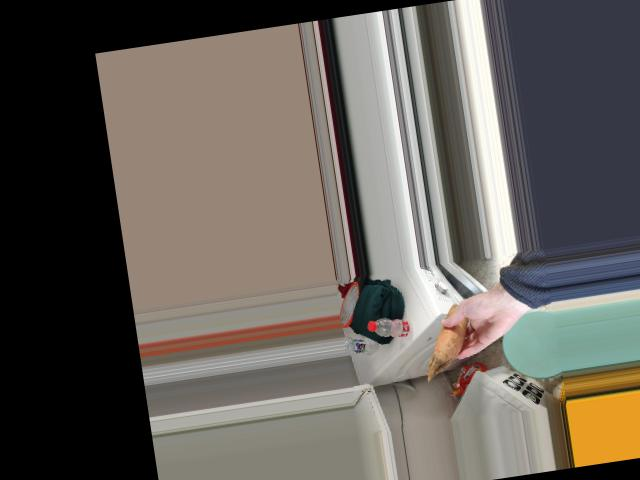sweet_potato: (427, 308, 478, 360)
